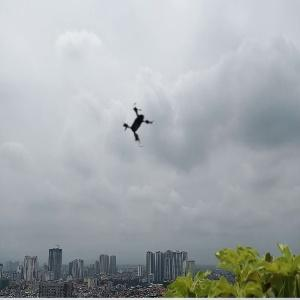drone: (117, 100, 168, 151)
